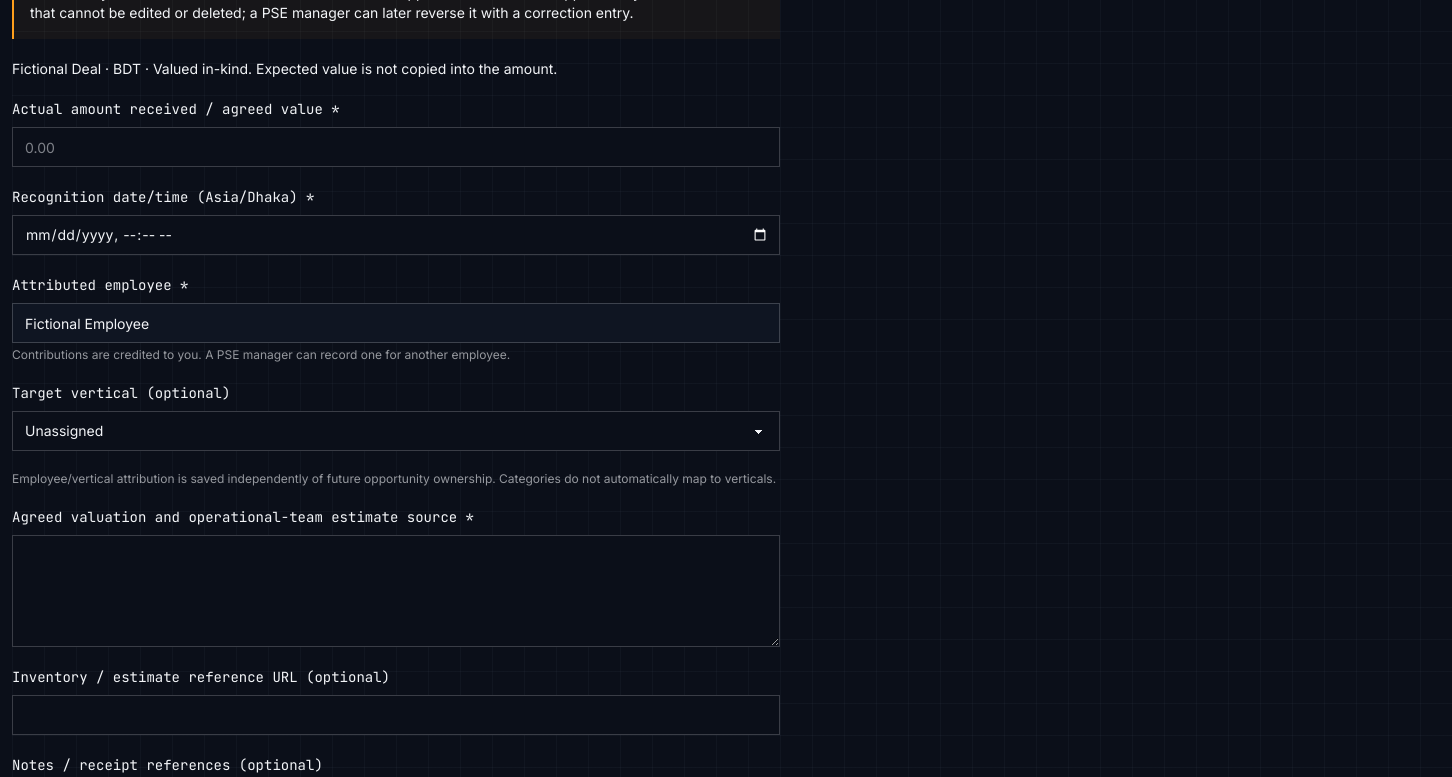
Test: contribution review and persistence › requires agreed valuation context for in-kind
The width and height of the screenshot is (1452, 777).
Type "100.01" into the field labelled "Actual amount received / agreed value *" at (396, 147), box [12,127,780,167]
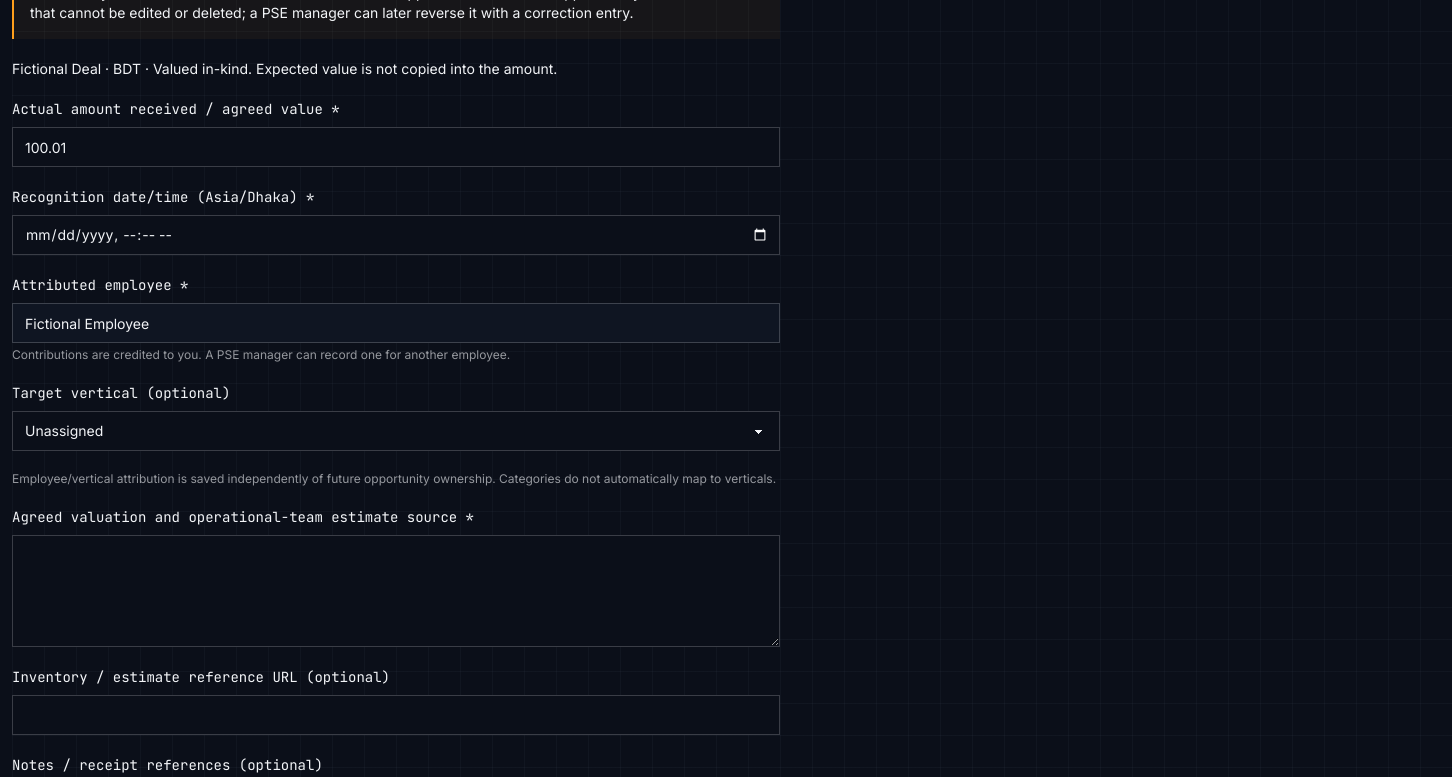
Type "2026-10-27T10:30" into the field labelled "Recognition date/time (Asia/Dhaka) *" at (396, 235), box [12,215,780,255]
(page scrolled)
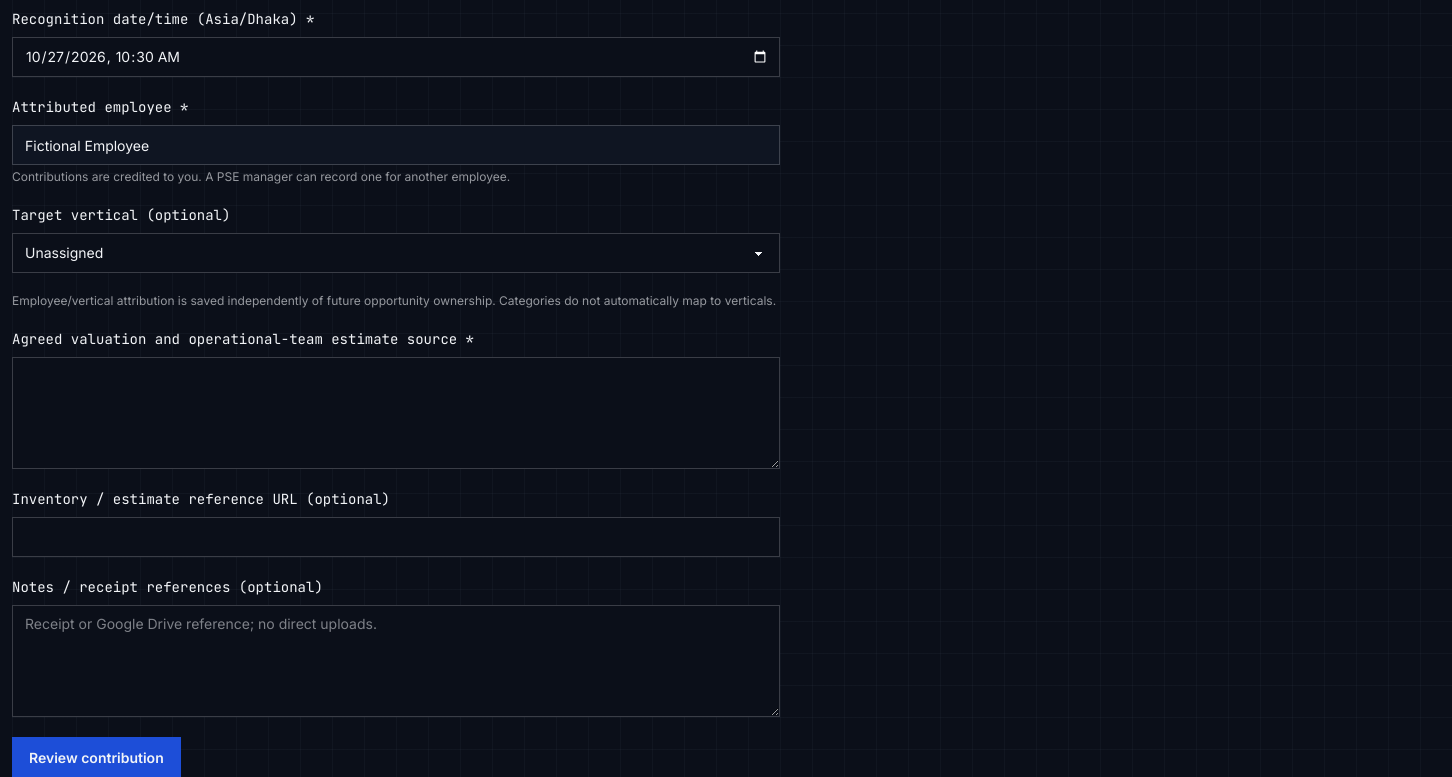
Click the button "Review contribution" at (96, 757), box [12,737,181,776]
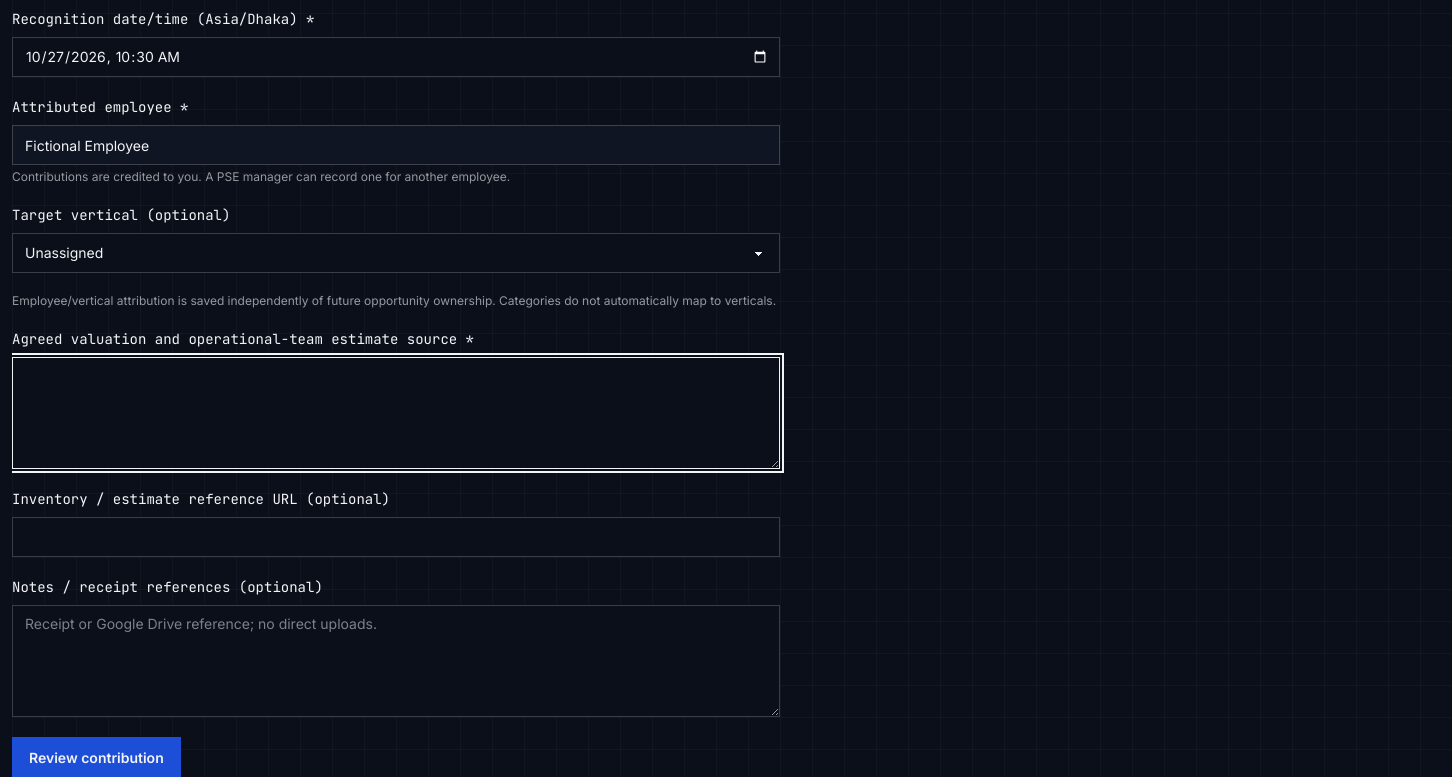
Type "Fictional agreed operational-team inventory estimate" into the text box labelled "Agreed valuation and operational-team estimate source *" at (396, 413), box [12,357,780,469]
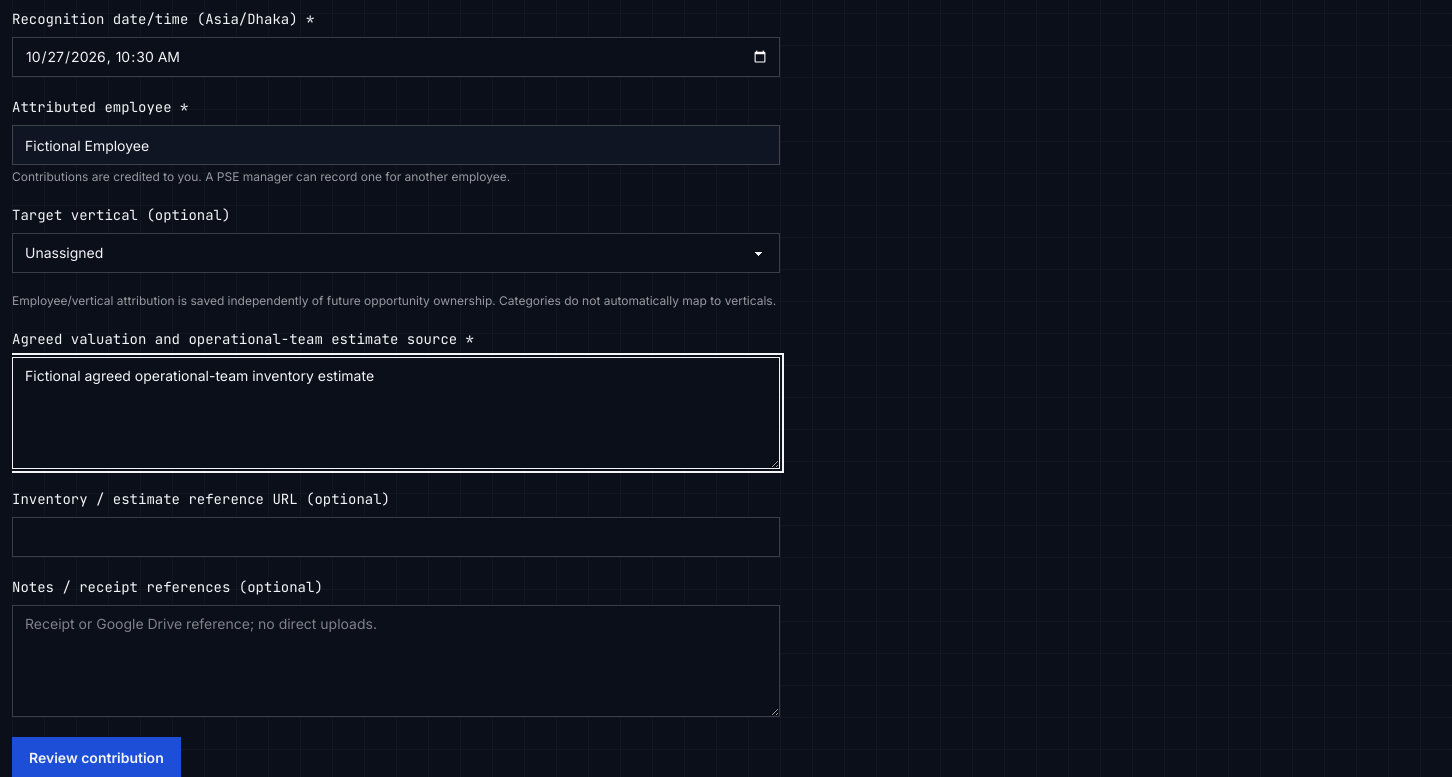
Click the button "Review contribution" at (96, 757), box [12,737,181,776]
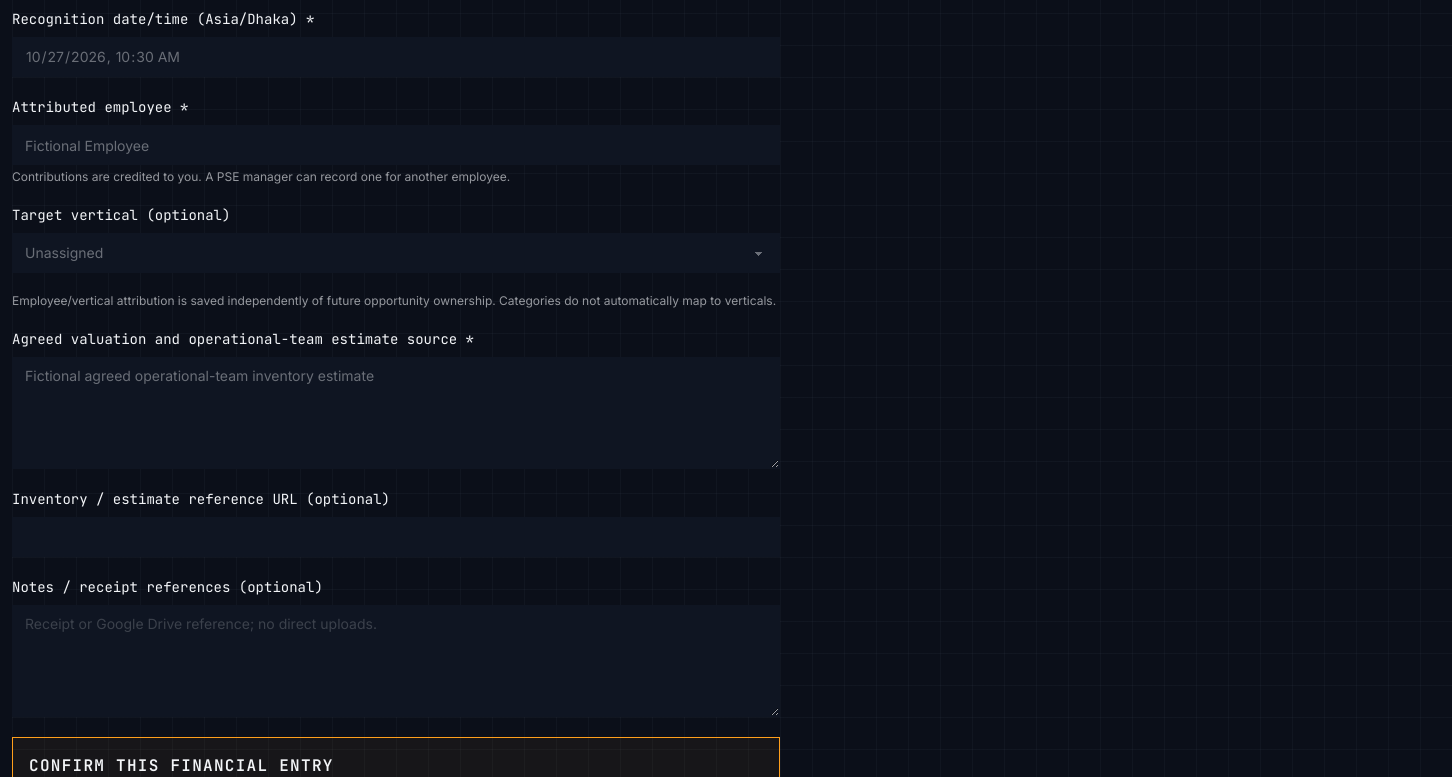
Result: the heading "Confirm this financial entry" is shown at [29,755,334,776]
